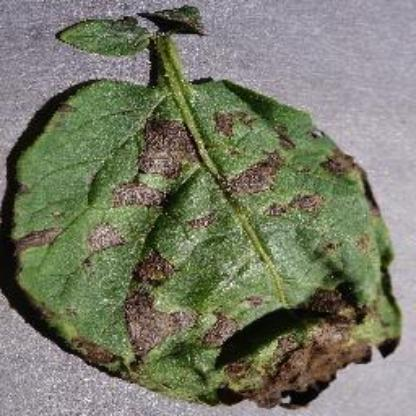Early-Blight: (9, 6, 404, 410)
